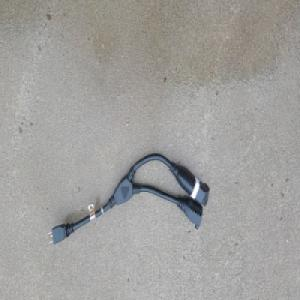Wire: (46, 151, 211, 247)
